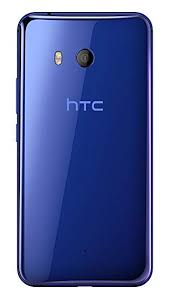htc: (14, 5, 157, 288)
